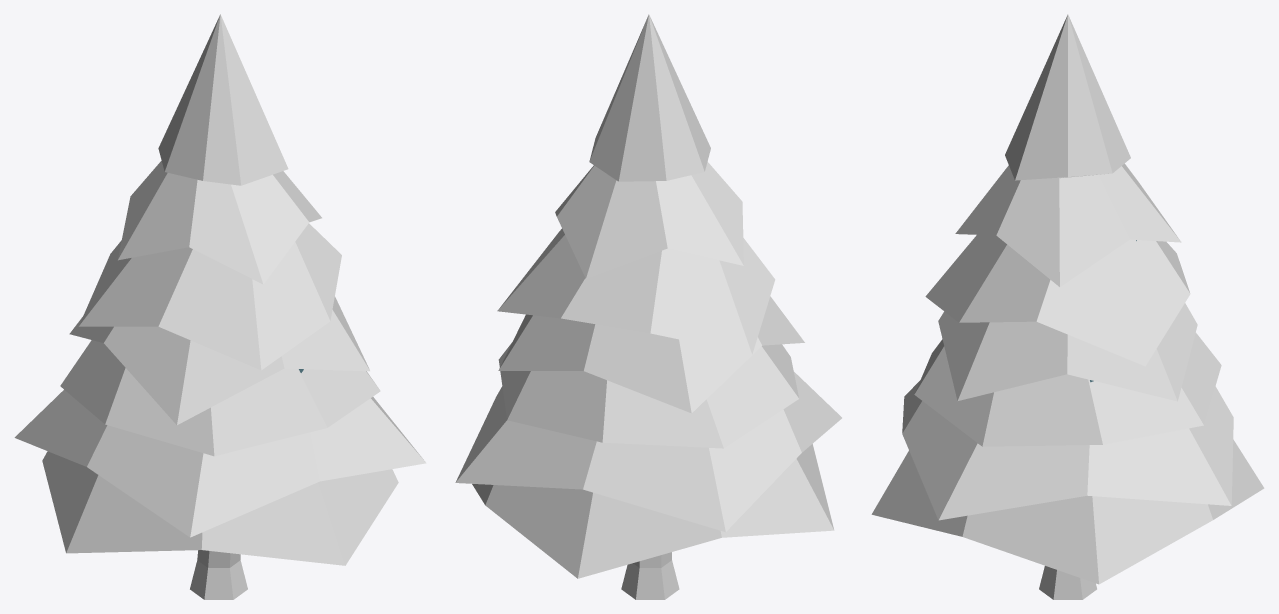
Rendered from resource__tree__pine-tree-big.fbx.
3 views of the same model, side by side, from view 1: azimuth 30°, elevation 25°; view 2: azimuth 150°, elevation 25°; view 3: azimuth 270°, elevation 25° (orthographic).
Visible parts, largest first — view 1: Pine_Tree_Big; view 2: Pine_Tree_Big; view 3: Pine_Tree_Big.
Part boxes in pixels (x1,y1,x2,y2): Pine_Tree_Big: (14, 14, 426, 599); Pine_Tree_Big: (455, 14, 841, 599); Pine_Tree_Big: (871, 14, 1264, 599).
Bounding box in the file's own units: 169 × 273 × 169.
